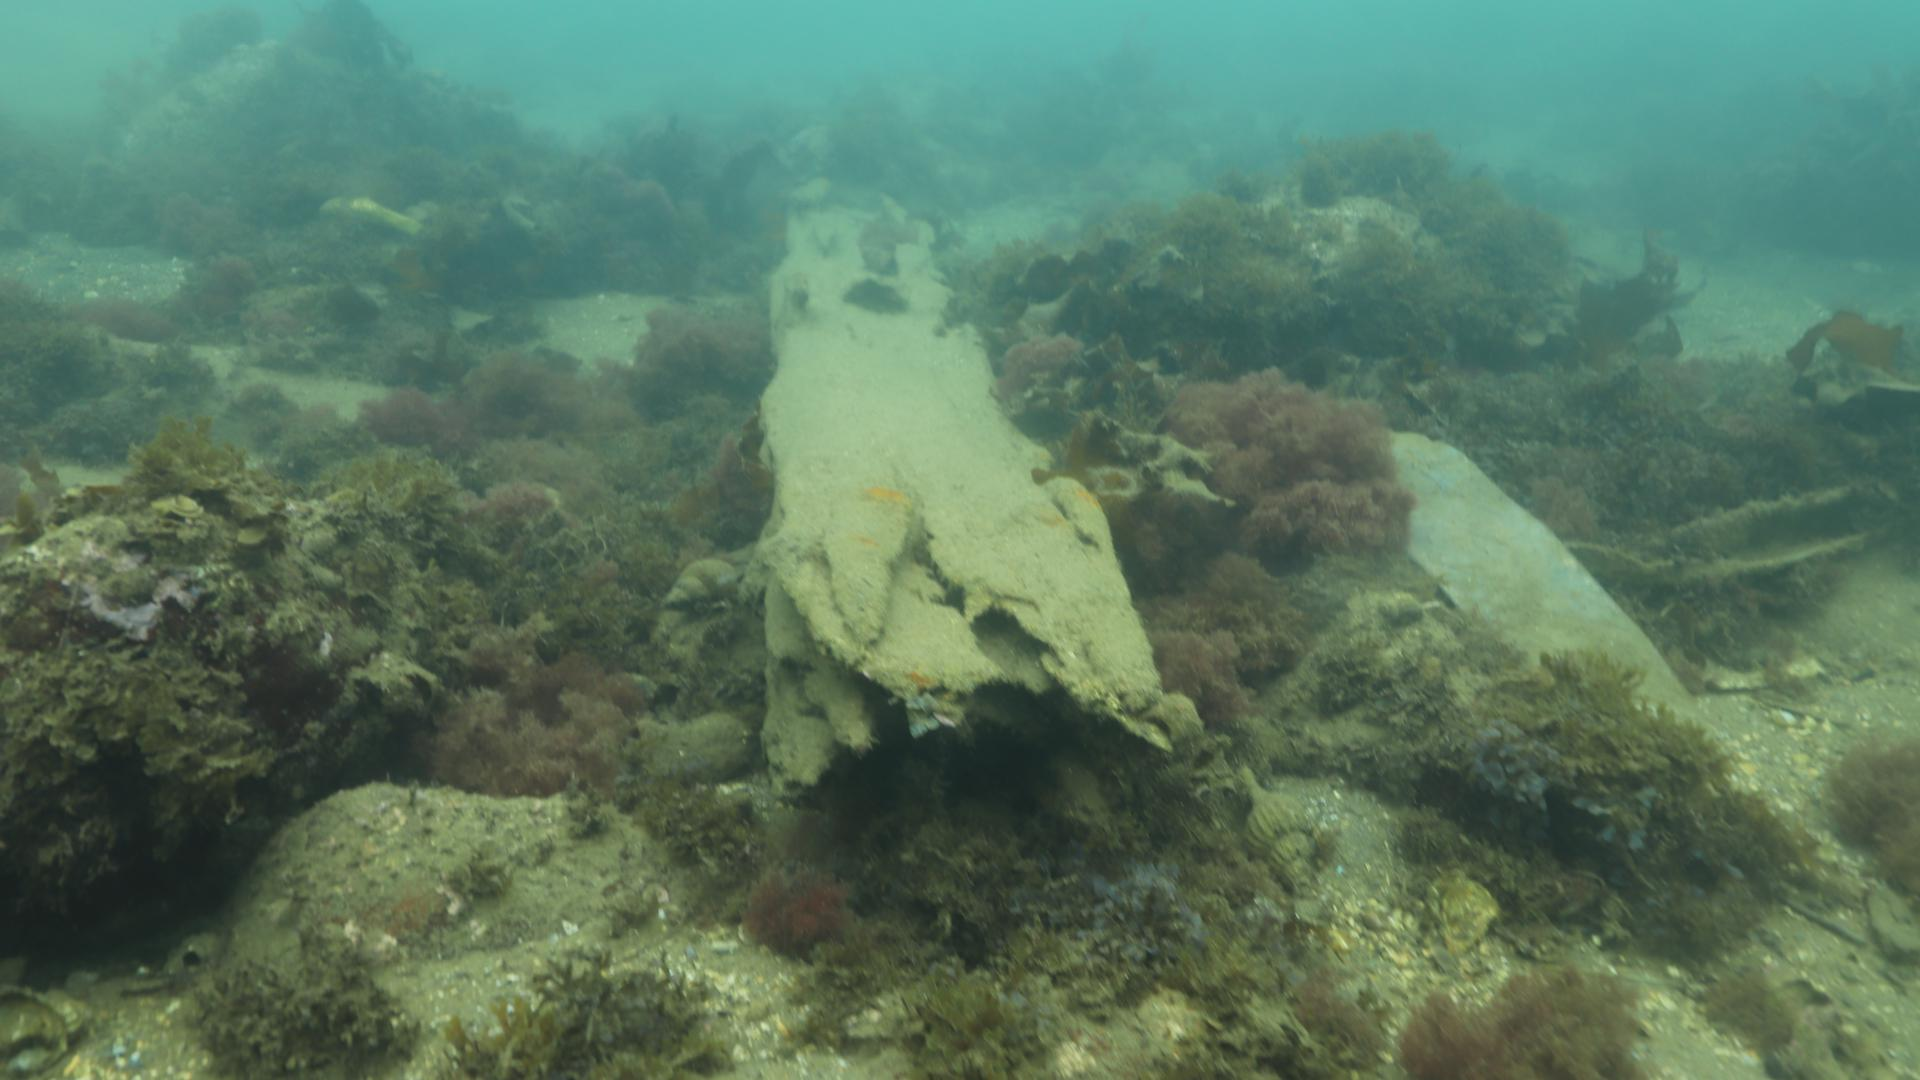wood: (753, 173, 1204, 812)
